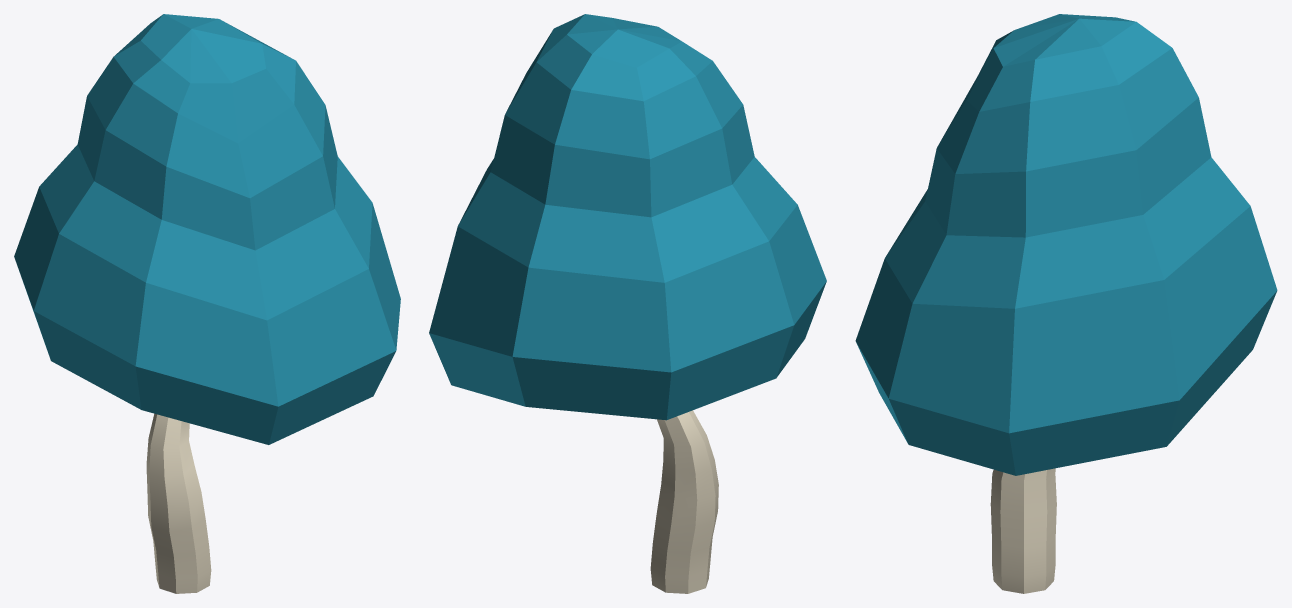
The model's file is MagicMushroomBlue.fbx.
3 renders of one model, left to right at view 1: azimuth 30°, elevation 25°; view 2: azimuth 150°, elevation 25°; view 3: azimuth 270°, elevation 25°, orthographic. The views are drawn at different scales.
Visible parts, largest first — view 1: pSphere2, pCylinder1; view 2: pSphere2, pCylinder1; view 3: pSphere2, pCylinder1.
Boxes of the visible parts, <box> form: pSphere2: <box>14,14,400,444</box>; pCylinder1: <box>146,413,211,593</box>; pSphere2: <box>429,14,826,420</box>; pCylinder1: <box>650,410,718,593</box>; pSphere2: <box>855,14,1277,475</box>; pCylinder1: <box>990,468,1056,593</box>.
Size of the model in its own units: 17.27 by 25.68 by 16.92.
